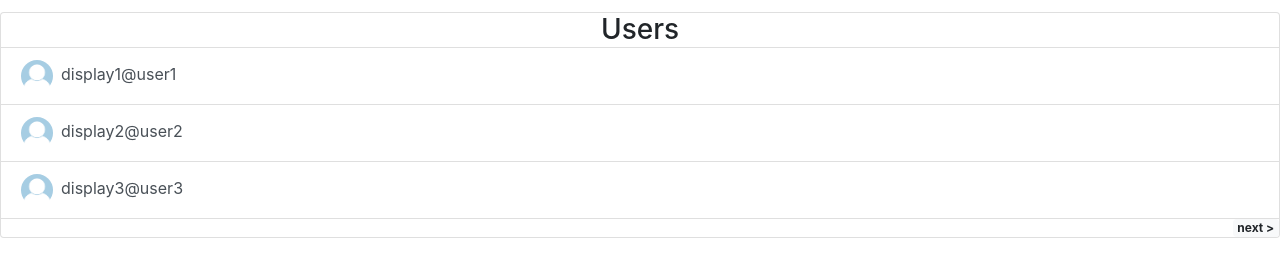
Test: UserList › Interactions › loads next page when clicked to next button
This screenshot has width=1280, height=255.
Click the text "next >".
click(1256, 228)  # box [1232,219,1279,237]
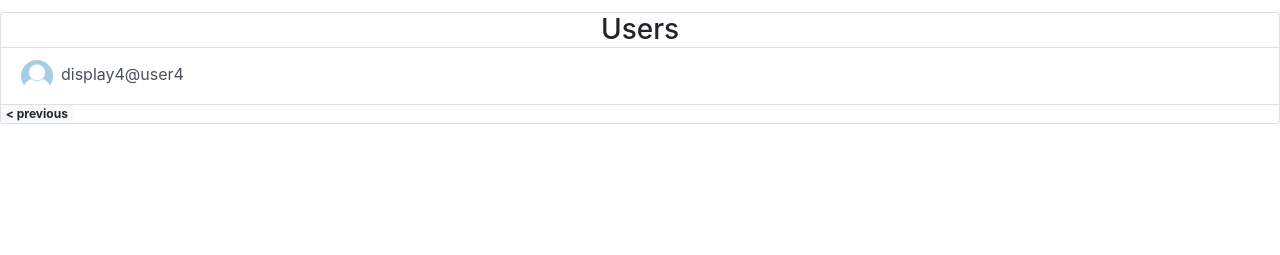
Now the text "display4@user4" is shown, box [53,64,184,84]
